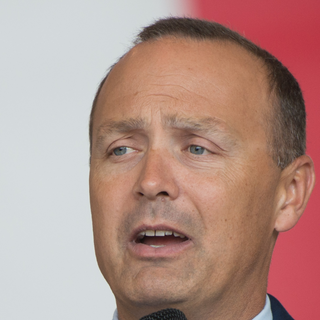eye: (168, 133, 217, 165), (97, 139, 145, 167)
